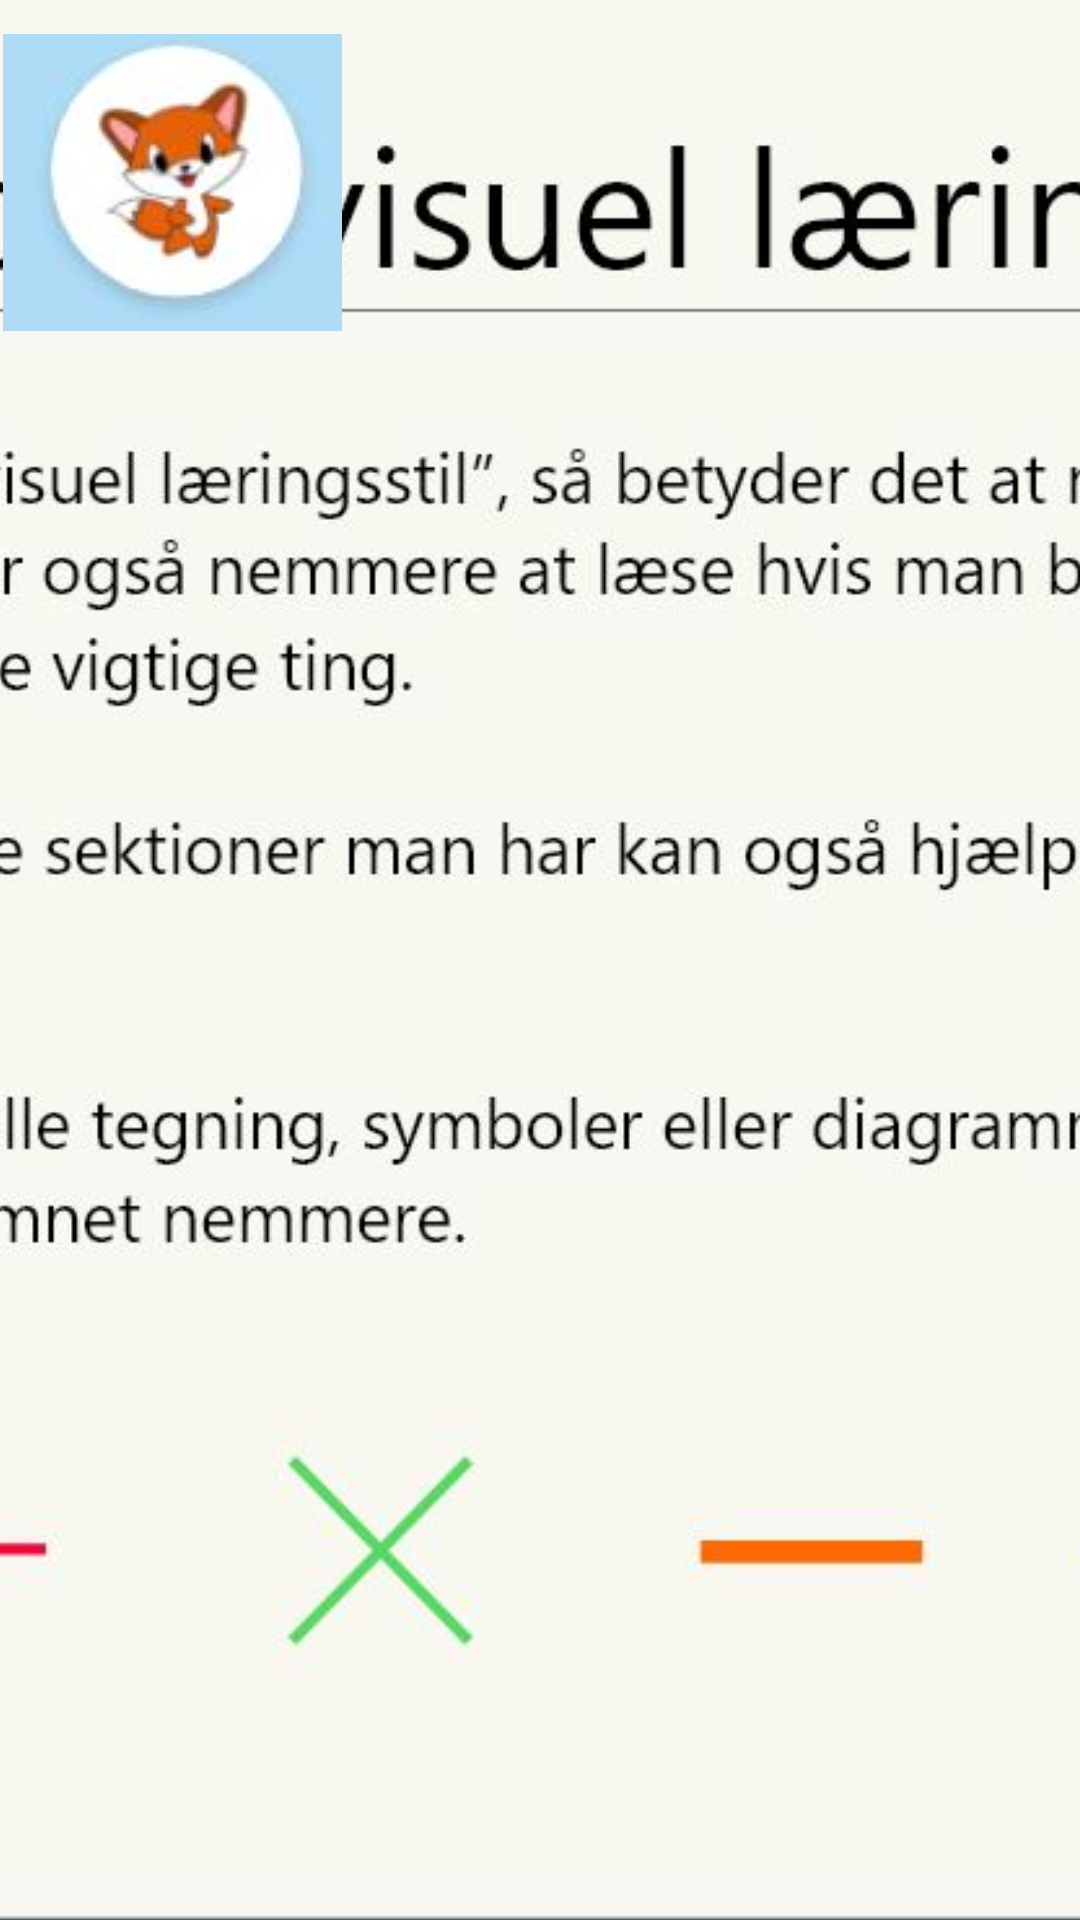

Icon click points for this 1080×1920 phone screenshot, format (x,y):
dinprofil: (172,182)
